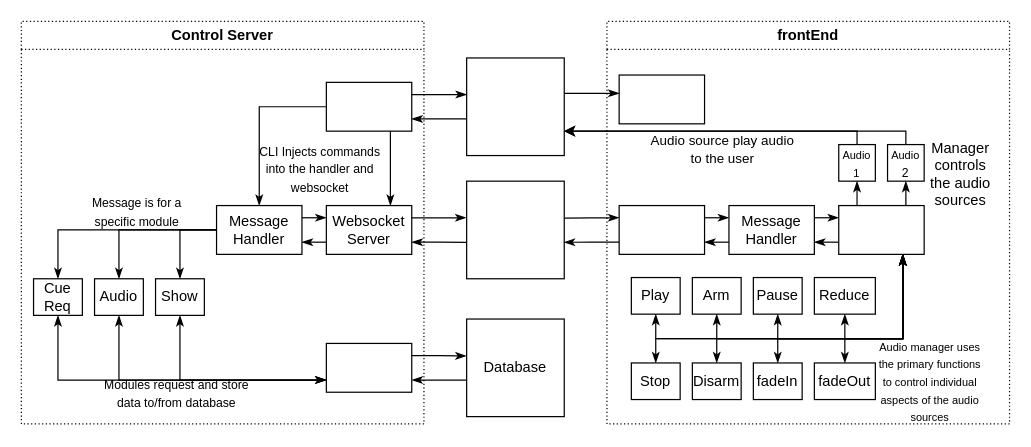
Image size: 1031x447. Some labels were removed from this diagram. The centre of each missing label's shape, as x and y in pixels:
Audio Manager: point 881,229
Command Line Manager: point 368,106
Database client: point 368,367
Keyboard Manager: point 661,99
User: point 514,106
Websocket Client: point 661,229
Websocket Connection: point 514,229
